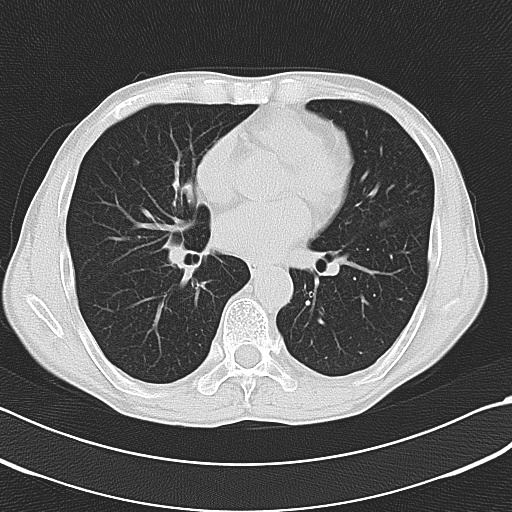Copy of non-cancer: (149, 187, 207, 247)
non-cancer: (148, 231, 206, 291)
